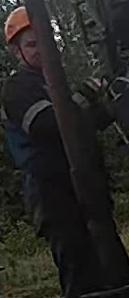gloves: (90, 59, 125, 86)
helmet: (3, 5, 31, 44)
vest: (2, 68, 117, 237)
